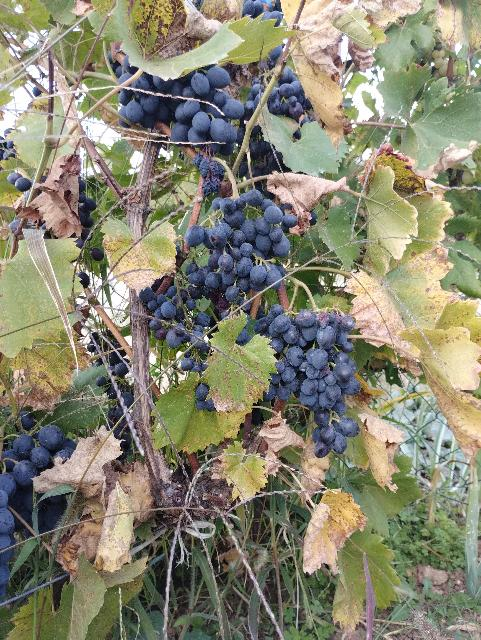grapes: (255, 305, 360, 456), (186, 190, 298, 302)
